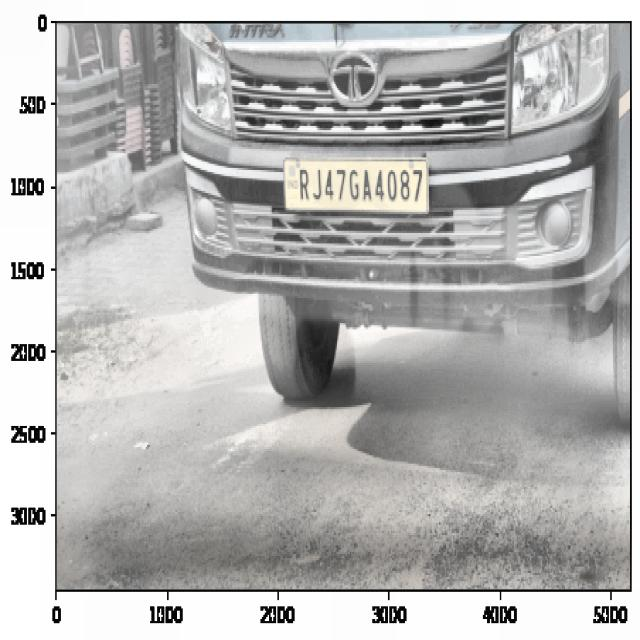license_plate: (292, 158, 428, 214)
